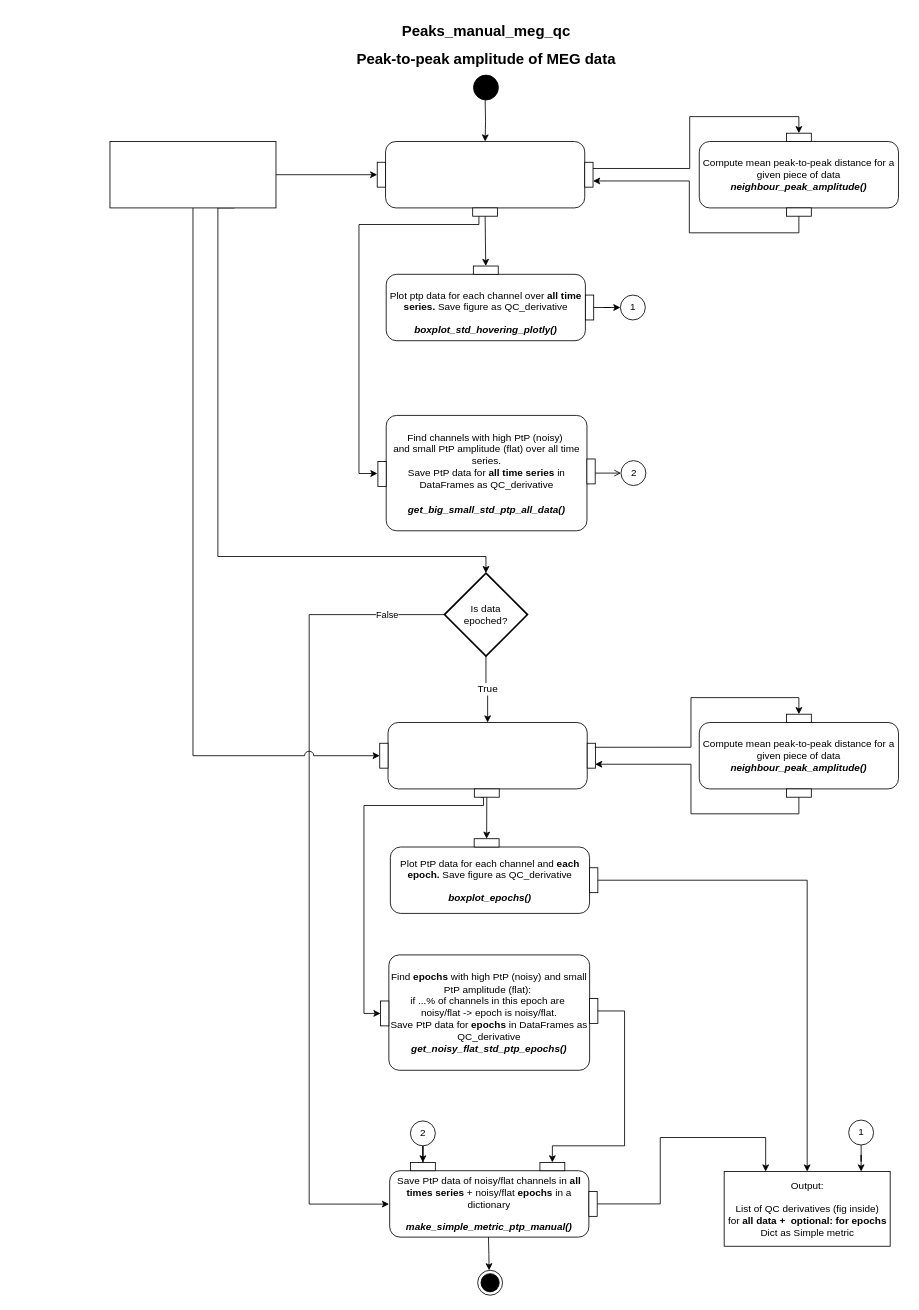
Some shapes in this 919 by 1310 pixel diagram are drawn without their labels. The shapes that lost their labels are listed below. From the top down, each one's box as (x1, y1, x2, y2) in pixels, then its label:
(109, 141, 276, 208): Input: Raw data Optional: epochs
(385, 141, 585, 208): Calculate PtP of data for each channel over all time series get_ptp_all_data()
(387, 722, 587, 789): Calculate PtP of data for each channel for each epoch get_ptp_epochs()
